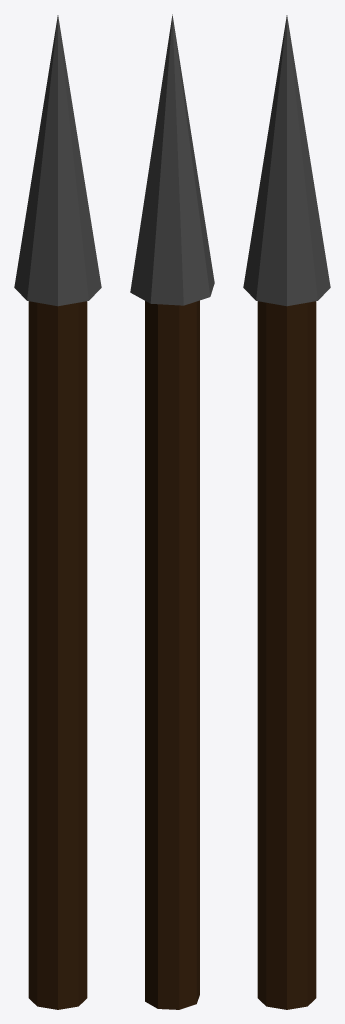
The model's file is Spike.fbx.
The picture shows the model from 3 angles, left to right: view 1: azimuth 90°, elevation 25°; view 2: azimuth 150°, elevation 25°; view 3: azimuth 270°, elevation 25°; orthographic projection.
Visible parts, largest first — view 1: Cylinder, Cone; view 2: Cylinder, Cone; view 3: Cylinder, Cone.
Boxes of the visible parts, x1,y1,x2,y2 form: Cylinder: [28, 301, 87, 1009]; Cone: [14, 15, 101, 306]; Cylinder: [145, 300, 199, 1009]; Cone: [130, 14, 214, 305]; Cylinder: [257, 301, 316, 1009]; Cone: [243, 15, 330, 306].
Bounding box in the file's own units: 12.61 × 156 × 12.6.
